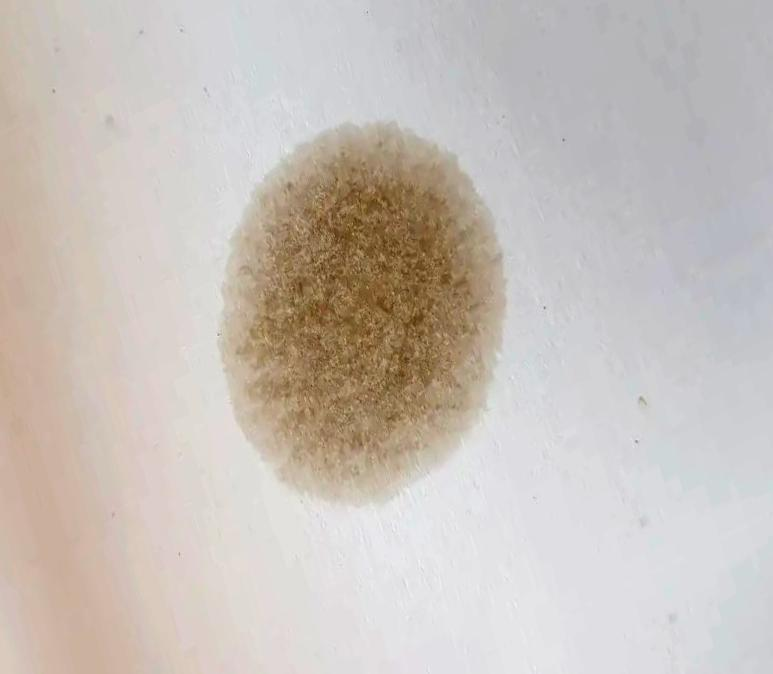stain: (206, 105, 521, 521)
